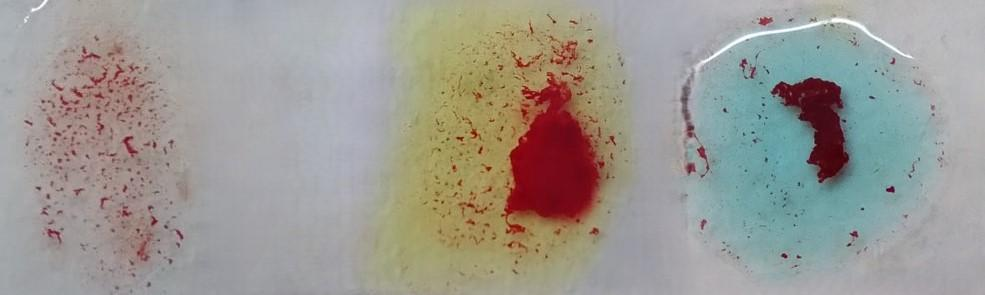A: (687, 7, 943, 276)
B: (423, 2, 623, 292)
D: (35, 20, 185, 295)
